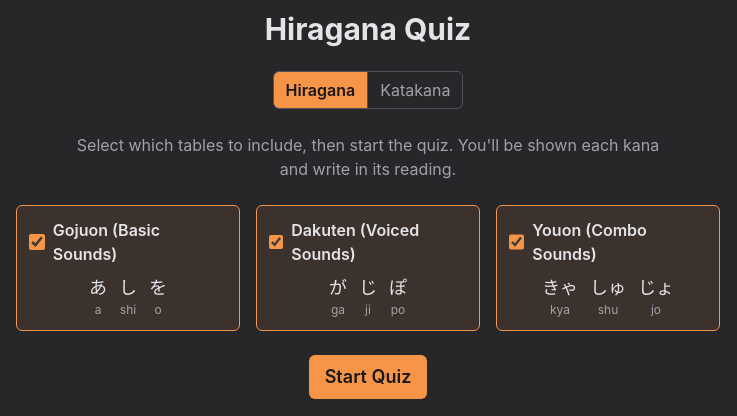
it: KanaQuizSelect › shows a disabled button instead of a start link when no tables are selected
The image size is (737, 416).
Click the checkbox labelled "Gojuon (Basic Sounds) あ a し shi を o".
click(37, 242)  # box [29,234,45,250]
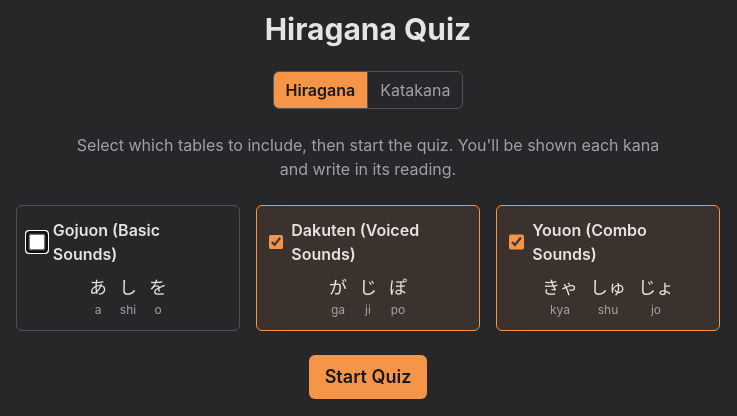
Click the checkbox labelled "Dakuten (Voiced Sounds) が ga じ ji ぽ po".
click(276, 242)  # box [269,234,283,250]
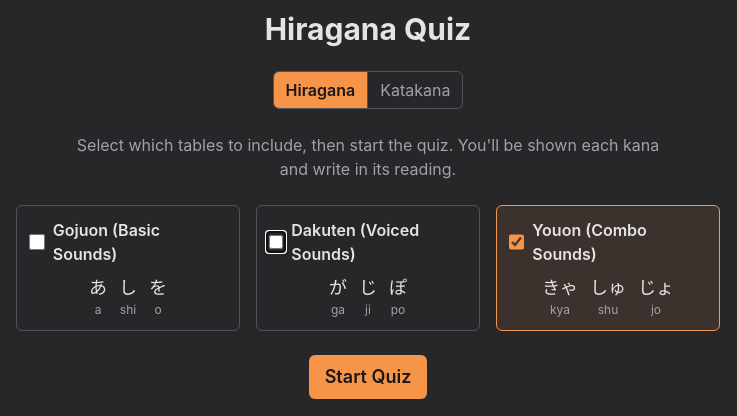
Click the checkbox labelled "Youon (Combo Sounds) きゃ kya しゅ shu じょ jo".
click(517, 242)  # box [509,234,524,250]
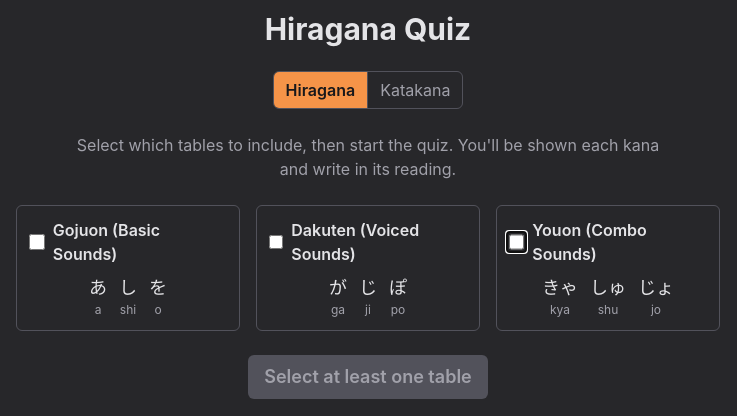
Result: the link "Start Quiz" is gone
Result: the button "Select at least one table" is disabled at [248,355,488,399]
